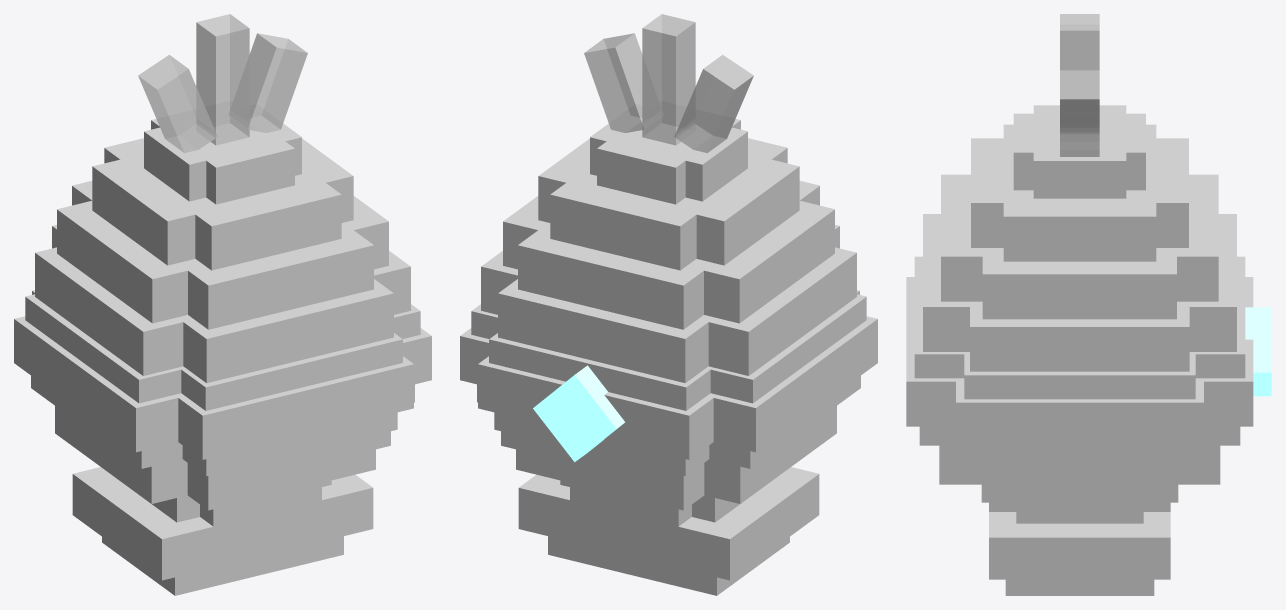
Rendered from IconEggEnchanted.fbx.
The picture shows the model from 3 angles, left to right: view 1: azimuth 30°, elevation 25°; view 2: azimuth 150°, elevation 25°; view 3: azimuth 270°, elevation 25°; orthographic projection.
Visible parts, largest first — view 1: Icon Egg Enchanted_body_19, Icon Egg Enchanted_body_17, Icon Egg Enchanted_body_11, Icon Egg Enchanted_body_9, Icon Egg Enchanted_body_12, Icon Egg Enchanted_body_10, Icon Egg Enchanted_body_8, Icon Egg Enchanted_body_16, Icon Egg Enchanted_body_13, Icon Egg Enchanted_body_3, Icon Egg Enchanted_body_7, Icon Egg Enchanted_body_22 (+11 smaller); view 2: Icon Egg Enchanted_body_19, Icon Egg Enchanted_body_11, Icon Egg Enchanted_body_9, Icon Egg Enchanted_body_12, Icon Egg Enchanted_body_10, Icon Egg Enchanted_body_8, Icon Egg Enchanted_body_16, Icon Egg Enchanted_body_13, Icon Egg Enchanted_body_17, Icon Egg Enchanted_body_3, Icon Egg Enchanted_body_22, Icon Egg Enchanted_body_14 (+12 smaller); view 3: Icon Egg Enchanted_body_16, Icon Egg Enchanted_body_8, Icon Egg Enchanted_body_10, Icon Egg Enchanted_body_12, Icon Egg Enchanted_body_19, Icon Egg Enchanted_body_11, Icon Egg Enchanted_body_9, Icon Egg Enchanted_body_13, Icon Egg Enchanted_body_2, Icon Egg Enchanted_body_14, Icon Egg Enchanted_body_6, Icon Egg Enchanted_body_17 (+11 smaller).
Boxes of the visible parts, left/top/right/bottom form: Icon Egg Enchanted_body_19: left=72, top=467, right=373, bottom=580; Icon Egg Enchanted_body_17: left=32, top=290, right=413, bottom=459; Icon Egg Enchanted_body_11: left=72, top=181, right=373, bottom=329; Icon Egg Enchanted_body_9: left=52, top=225, right=393, bottom=383; Icon Egg Enchanted_body_12: left=92, top=138, right=353, bottom=265; Icon Egg Enchanted_body_10: left=57, top=196, right=388, bottom=323; Icon Egg Enchanted_body_8: left=35, top=247, right=410, bottom=375; Icon Egg Enchanted_body_16: left=14, top=316, right=431, bottom=452; Icon Egg Enchanted_body_13: left=104, top=138, right=341, bottom=270; Icon Egg Enchanted_body_3: left=187, top=435, right=375, bottom=510; Icon Egg Enchanted_body_7: left=181, top=333, right=402, bottom=410; Icon Egg Enchanted_body_22: left=196, top=14, right=249, bottom=145; Icon Egg Enchanted_body_19: left=518, top=467, right=819, bottom=580; Icon Egg Enchanted_body_11: left=518, top=181, right=819, bottom=329; Icon Egg Enchanted_body_9: left=498, top=225, right=839, bottom=383; Icon Egg Enchanted_body_12: left=538, top=138, right=799, bottom=265; Icon Egg Enchanted_body_10: left=503, top=196, right=834, bottom=323; Icon Egg Enchanted_body_8: left=481, top=247, right=856, bottom=375; Icon Egg Enchanted_body_16: left=460, top=316, right=877, bottom=452; Icon Egg Enchanted_body_13: left=550, top=138, right=787, bottom=270; Icon Egg Enchanted_body_17: left=478, top=290, right=859, bottom=459; Icon Egg Enchanted_body_3: left=516, top=435, right=704, bottom=510; Icon Egg Enchanted_body_22: left=642, top=14, right=695, bottom=145; Icon Egg Enchanted_body_14: left=590, top=104, right=747, bottom=201; Icon Egg Enchanted_body_16: left=956, top=378, right=1203, bottom=447; Icon Egg Enchanted_body_8: left=970, top=301, right=1189, bottom=371; Icon Egg Enchanted_body_10: left=982, top=248, right=1176, bottom=319; Icon Egg Enchanted_body_12: left=1003, top=124, right=1156, bottom=261; Icon Egg Enchanted_body_19: left=989, top=512, right=1170, bottom=579; Icon Egg Enchanted_body_11: left=941, top=174, right=1218, bottom=301; Icon Egg Enchanted_body_9: left=923, top=214, right=1236, bottom=351; Icon Egg Enchanted_body_13: left=971, top=138, right=1188, bottom=247; Icon Egg Enchanted_body_2: left=981, top=466, right=1178, bottom=502; Icon Egg Enchanted_body_14: left=1033, top=105, right=1126, bottom=198; Icon Egg Enchanted_body_6: left=964, top=354, right=1195, bottom=399; Icon Egg Enchanted_body_17: left=906, top=277, right=1253, bottom=426.
Size of the model in its own units: 210 by 355 by 221.
